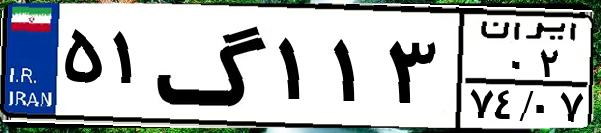0: (508, 27, 537, 80), (535, 70, 560, 125)
1: (270, 28, 330, 110), (330, 28, 385, 110), (110, 28, 156, 98)
2: (537, 27, 568, 80)
3: (385, 28, 445, 110)
4: (495, 70, 520, 125)
5: (57, 26, 110, 100)
7: (560, 70, 590, 125), (470, 70, 495, 125)
گ: (156, 12, 270, 120)
